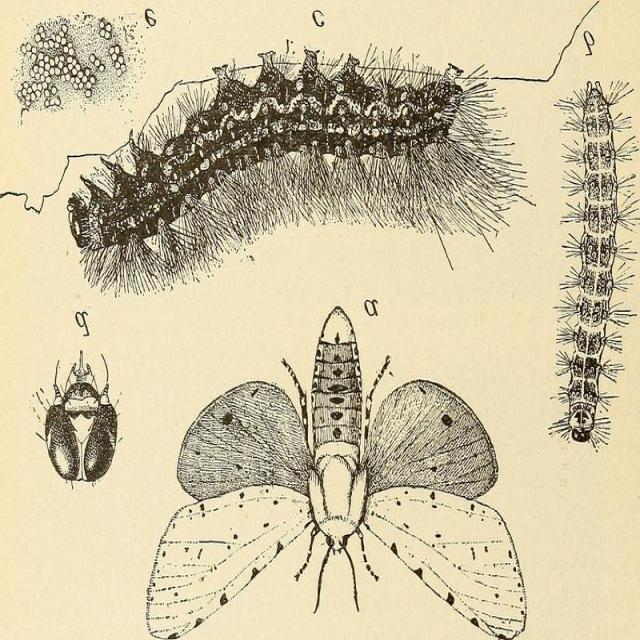armyworm: (62, 45, 543, 299), (543, 65, 640, 458)
